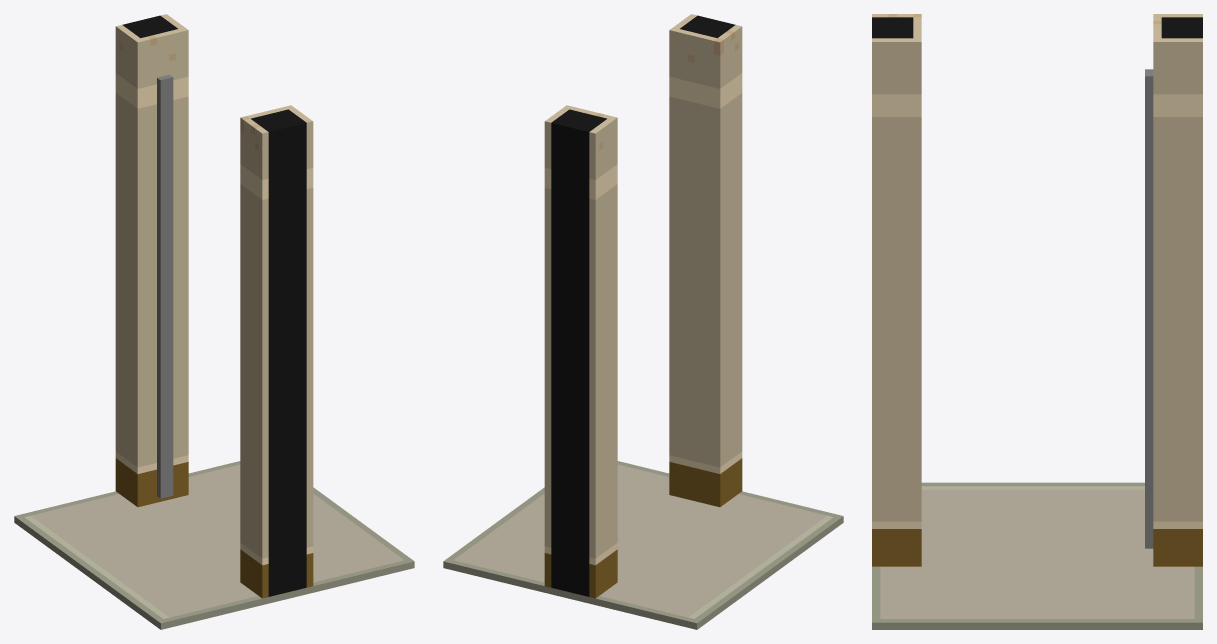
File: Parede_Porta.obj
3 renders of one model, left to right at view 1: azimuth 30°, elevation 25°; view 2: azimuth 150°, elevation 25°; view 3: azimuth 270°, elevation 25°, orthographic. The views are drawn at different scales.
Bounding box in the file's own units: 40 × 71 × 40.
1 material, 1 textured.
